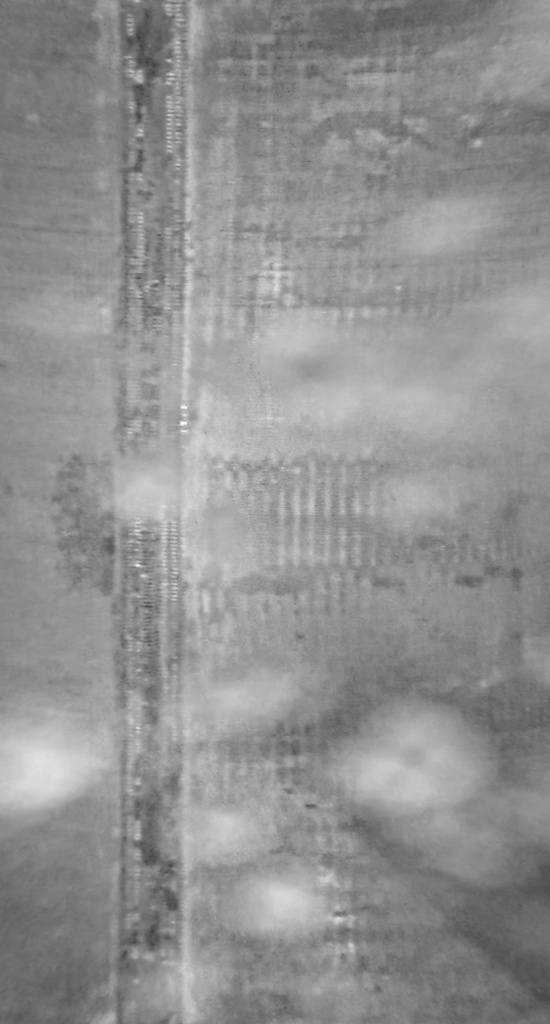splice: (100, 1, 197, 1024)
